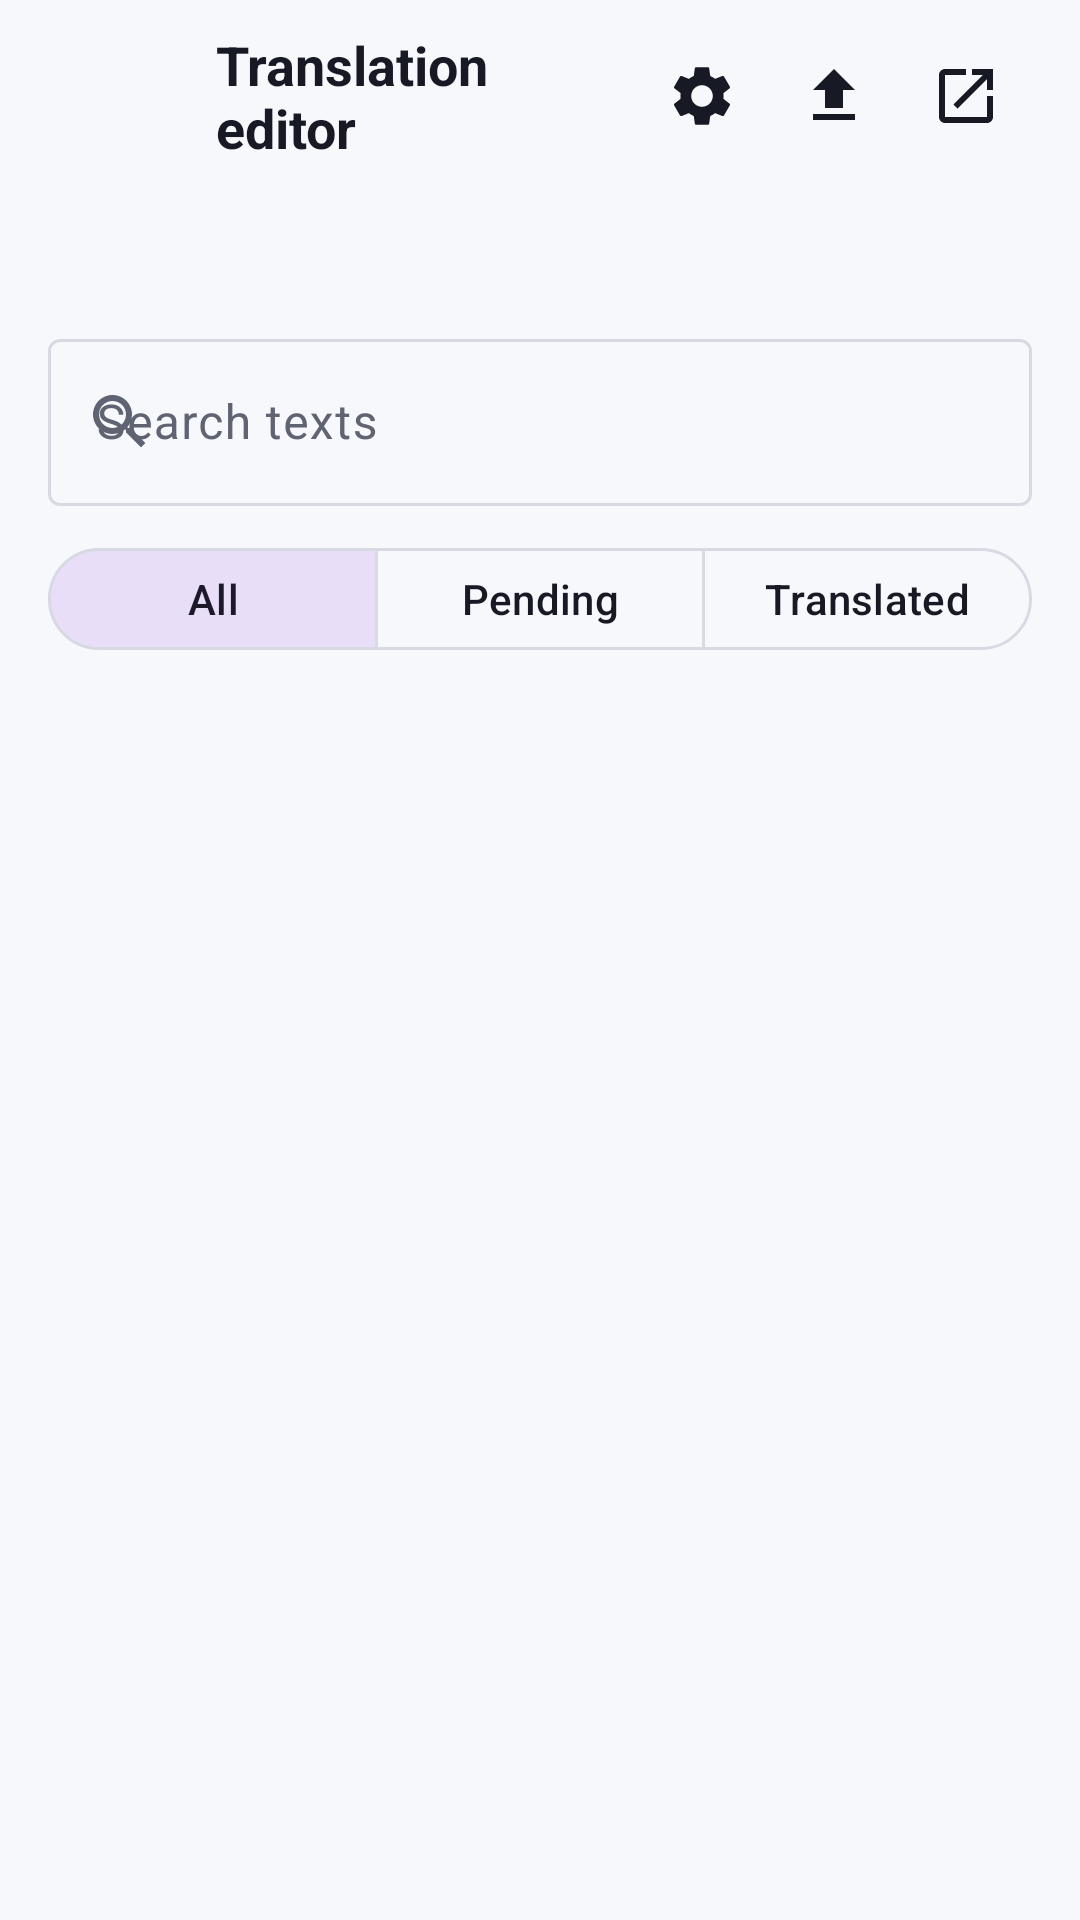

Locate icon controls on the screen. Image size 1080 × 1920, boxes as (x1, y1, x2, y2).
Edit externally: (939, 69, 993, 123)
Export translation: (813, 69, 855, 120)
Translation settings: (674, 67, 730, 125)
